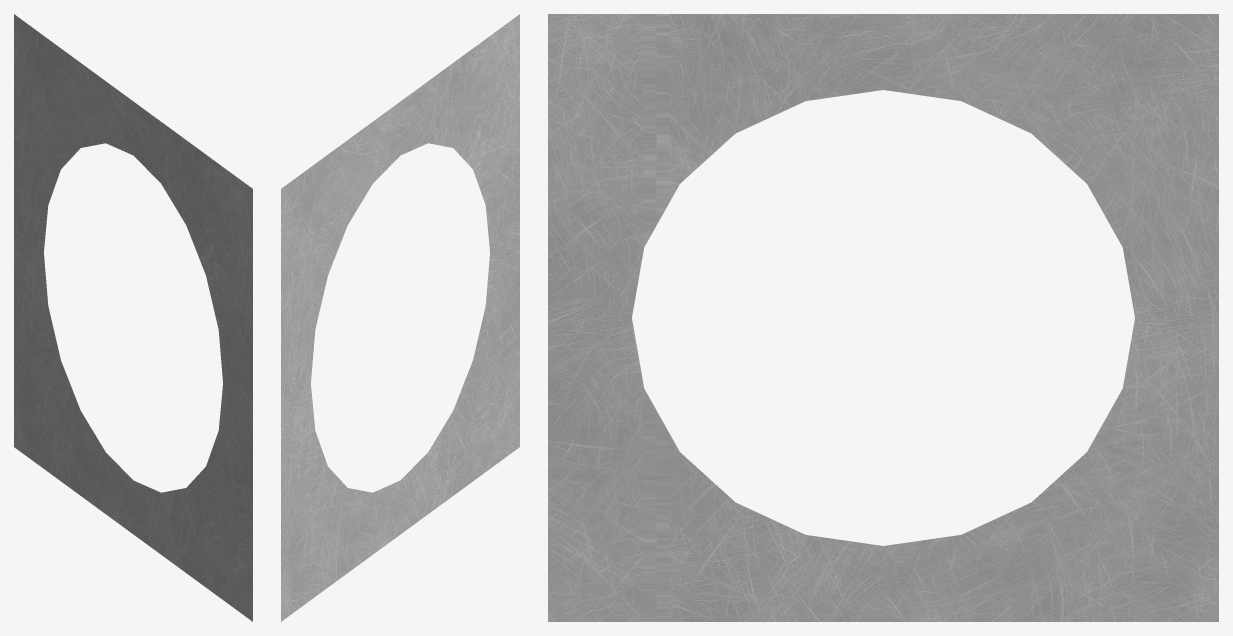
The model's file is BigPipes_Hole.fbx.
3 views of the same model, side by side, from view 1: azimuth 30°, elevation 25°; view 2: azimuth 150°, elevation 25°; view 3: azimuth 270°, elevation 25° (orthographic). The views are drawn at different scales.
Parts seen in each view (by area): view 1: BigPipe_Hole; view 2: BigPipe_Hole; view 3: BigPipe_Hole.
Boxes of the visible parts, x1,y1,x2,y2 form: BigPipe_Hole: (14, 14, 252, 621); BigPipe_Hole: (281, 14, 519, 621); BigPipe_Hole: (548, 14, 1218, 621).
Size of the model in its own units: 0 by 100 by 100.
1 material, 1 textured.
